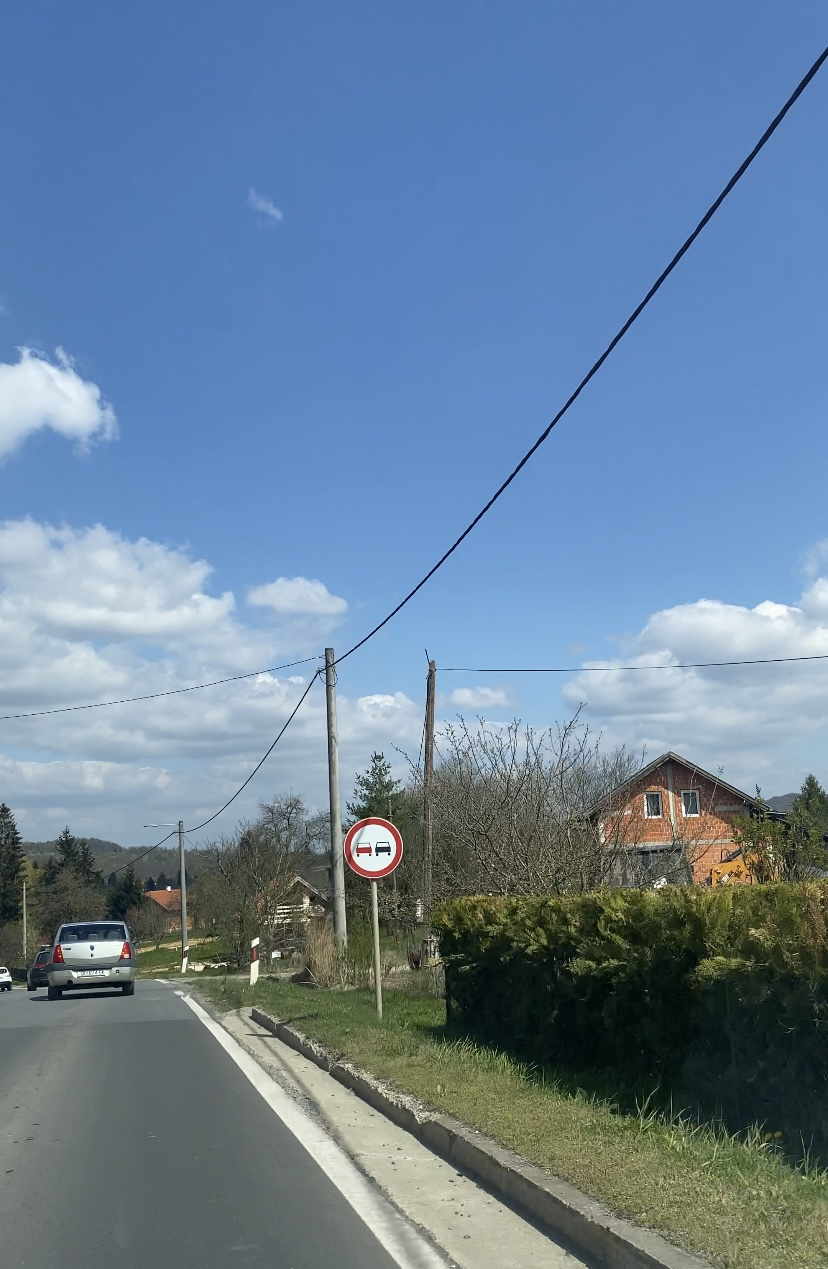Zabrana pretjecanja: (343, 817, 404, 879)
